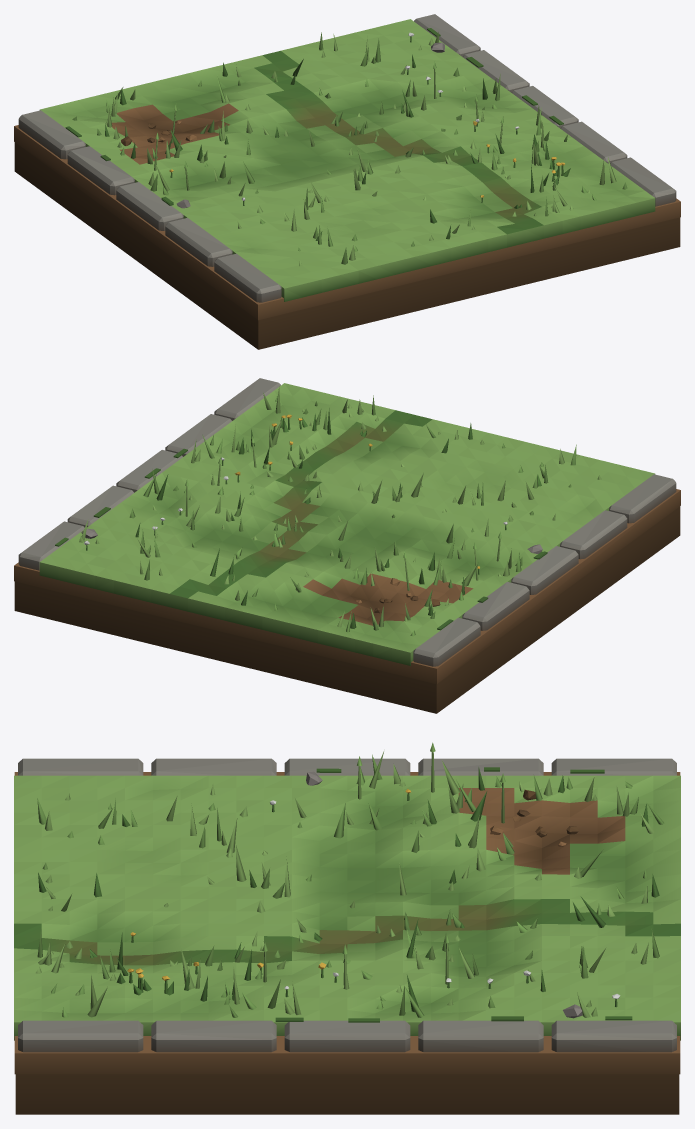
The model's file is grass-verge-01.glb.
3 renders of one model, top to bottom at view 1: azimuth 30°, elevation 25°; view 2: azimuth 150°, elevation 25°; view 3: azimuth 270°, elevation 25°, orthographic. The views are drawn at different scales.
Parts seen in each view (by area): view 1: grass_verge_01; view 2: grass_verge_01; view 3: grass_verge_01.
Boxes of the visible parts, x1=… form: grass_verge_01: x1=14, y1=14, x2=680, y2=349; grass_verge_01: x1=14, y1=378, x2=680, y2=713; grass_verge_01: x1=14, y1=742, x2=680, y2=1114.
Size of the model in its own units: 3.99 by 0.8406 by 4.
